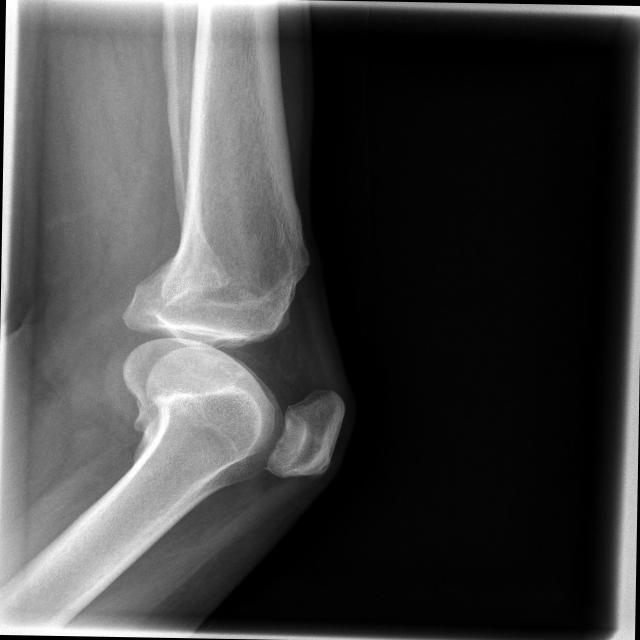Knee: (116, 220, 350, 484)
